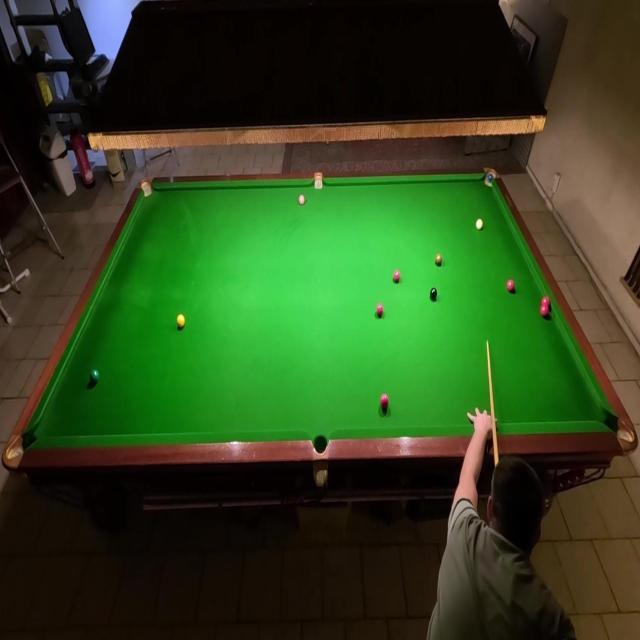Ball: (89, 368, 100, 384), (539, 303, 550, 317), (506, 279, 515, 293), (177, 314, 186, 328), (541, 295, 551, 307), (476, 218, 484, 232), (376, 302, 384, 316), (430, 286, 438, 300), (381, 394, 388, 409), (394, 270, 401, 283), (435, 254, 442, 266), (298, 194, 306, 204), (487, 173, 494, 184)
